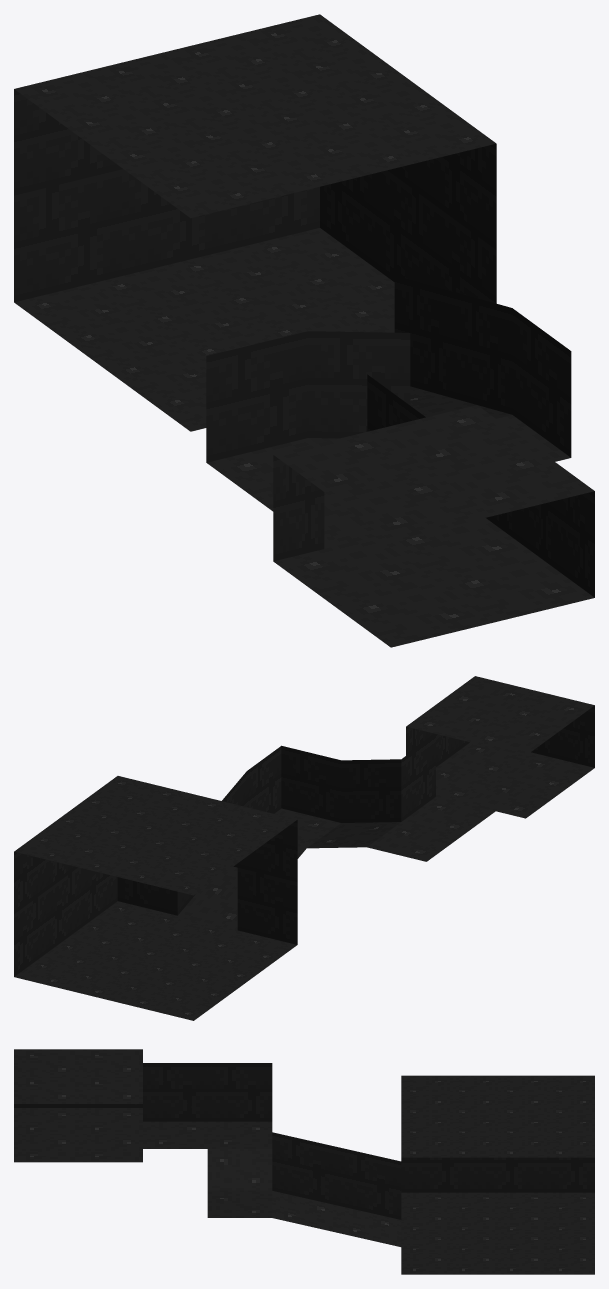
File: dungeon2.obj
The picture shows the model from 3 angles, top to bottom: view 1: azimuth 30°, elevation 25°; view 2: azimuth 150°, elevation 25°; view 3: azimuth 270°, elevation 25°; orthographic projection. The views are drawn at different scales.
Visible parts, largest first — view 1: Dungeon.001; view 2: Dungeon.001; view 3: Dungeon.001.
Part boxes in pixels (x1,y1,x2,y2): Dungeon.001: (14,14,594,647); Dungeon.001: (14,676,594,1020); Dungeon.001: (14,1049,594,1274).
Bounding box in the file's own units: 576 × 256 × 1152.
3 materials, 3 textured.
